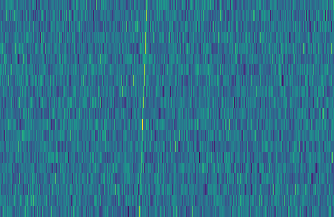signal: (133, 0, 150, 217)
